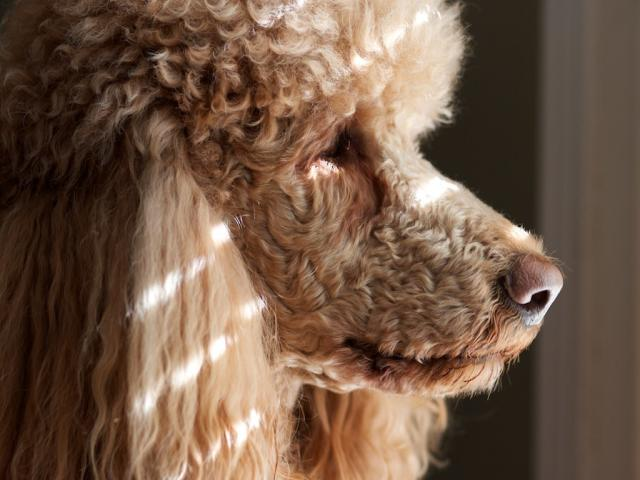Dog: (0, 0, 573, 479)
